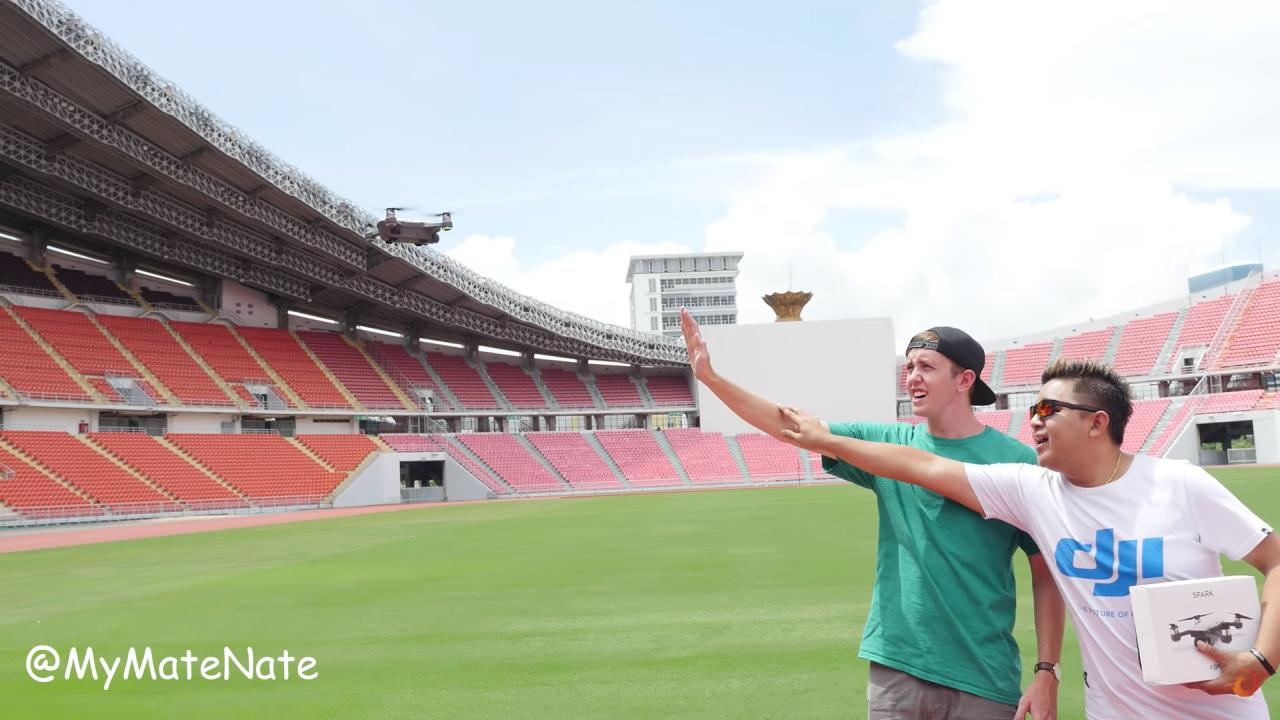Drone: (343, 194, 463, 260)
